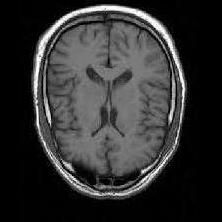Normal_Brain: (1, 1, 204, 220)
